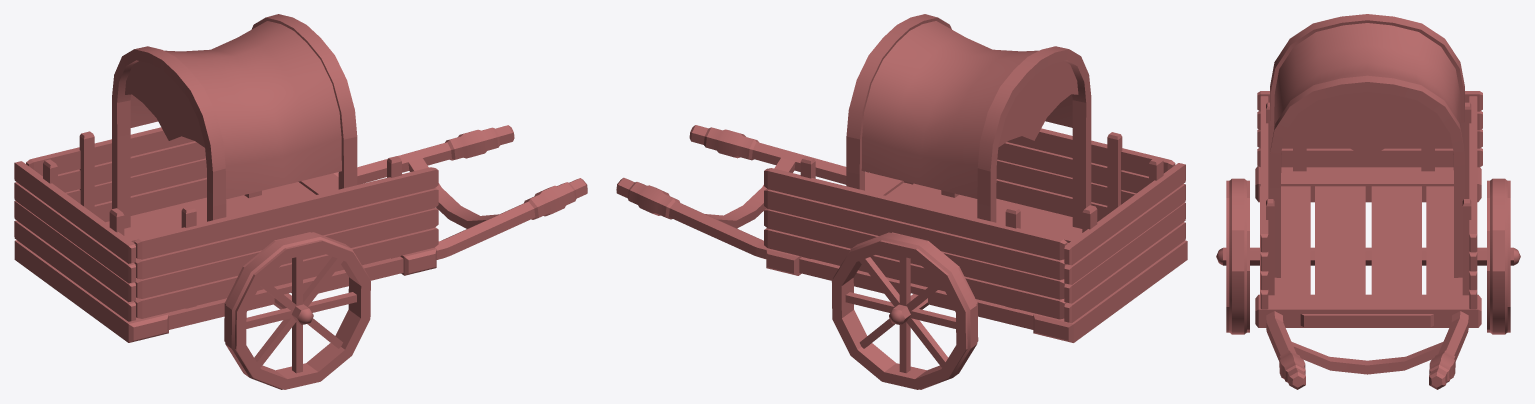
File: Cart_Pro.fbx
3 renders of one model, left to right at view 1: azimuth 30°, elevation 25°; view 2: azimuth 150°, elevation 25°; view 3: azimuth 270°, elevation 25°, orthographic. The views are drawn at different scales.
Parts seen in each view (by area): view 1: Cart_Pro; view 2: Cart_Pro; view 3: Cart_Pro.
Boxes of the visible parts, bbox=[...] form: Cart_Pro: bbox=[14, 14, 587, 389]; Cart_Pro: bbox=[616, 14, 1187, 389]; Cart_Pro: bbox=[1216, 14, 1520, 389].
Bounding box in the file's own units: 296 × 172 × 170.
